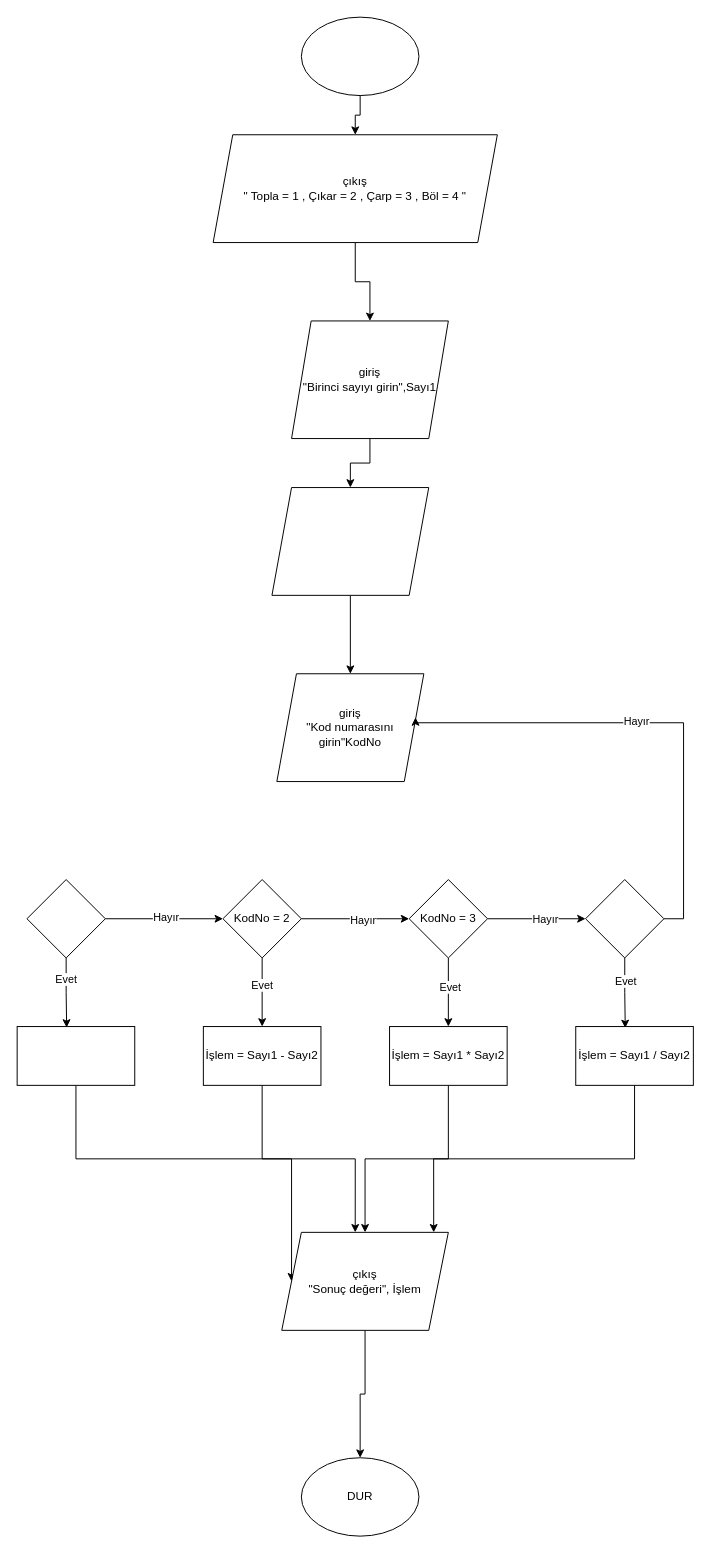
Image size: 711x1553. Some labels were removed from this diagram. Each missing label, with the centre of its shape:
BAŞLA: the point at 359,56
giriş "İkinci sayıyı girin",Sayı2: the point at 350,541
İşlem = Sayı1 + Sayı2: the point at 75,1055
KodNo = 1: the point at 65,918
KodNo = 4: the point at 624,918
